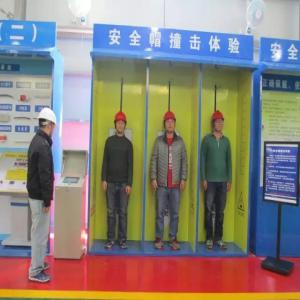red: (114, 109, 128, 137), (211, 110, 226, 135), (163, 110, 177, 134)
white: (38, 106, 58, 141)
